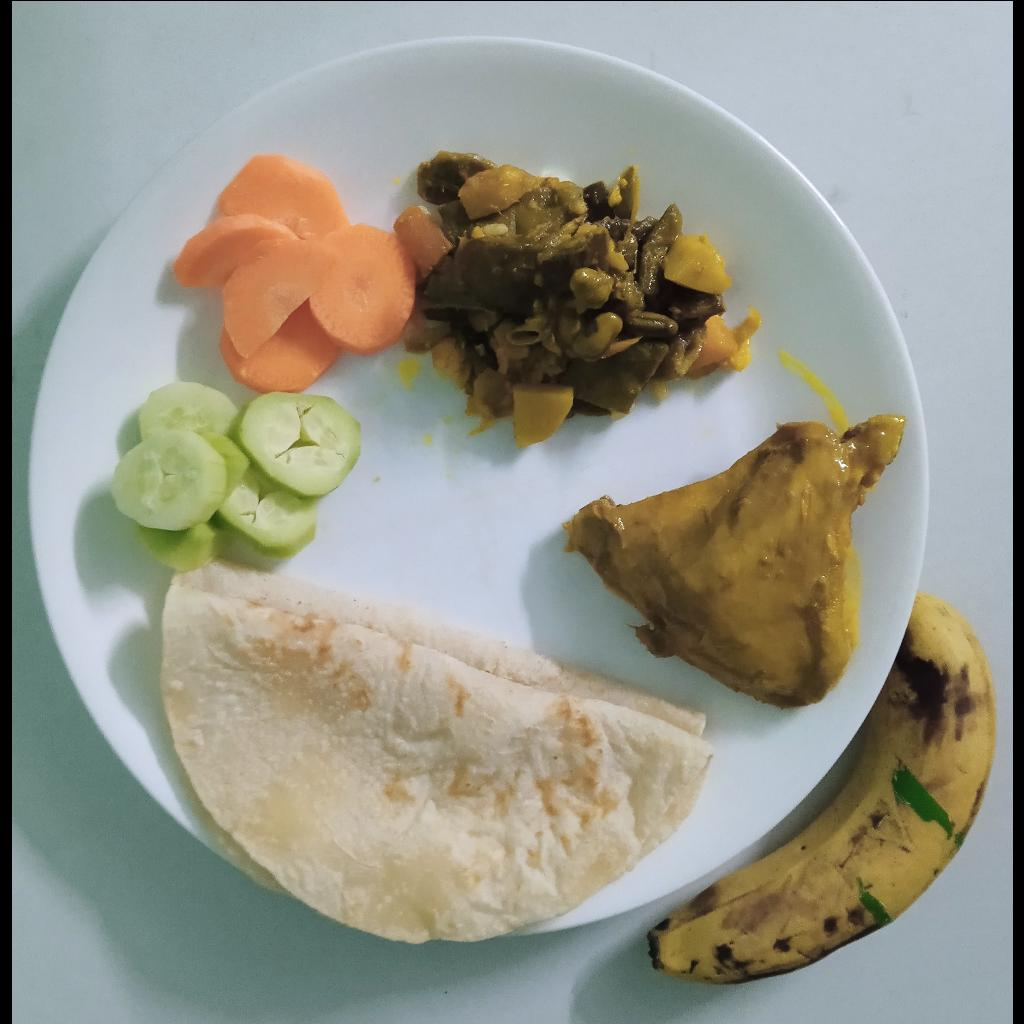banana: (646, 590, 996, 986)
carrot: (169, 150, 414, 392)
chicken: (561, 413, 909, 710)
cucumber: (107, 380, 361, 568)
ruti: (156, 559, 716, 949)
vegetable: (392, 150, 759, 448)
